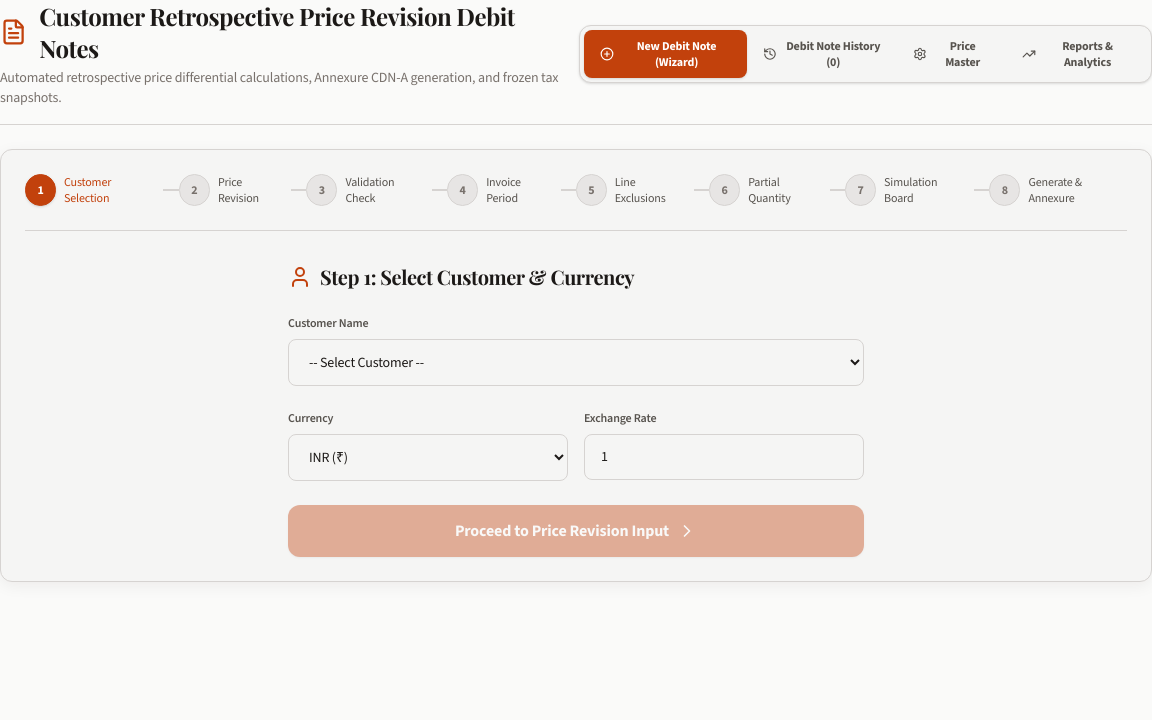
Scenario: CustomerDebitNotesTab - History Edit Integration › 2. Clicking Edit loads persisted Debit Note details and opens EditDebitNoteModal
Click the button "Debit Note History (0)".
click(822, 54)  # box [747,30,897,78]
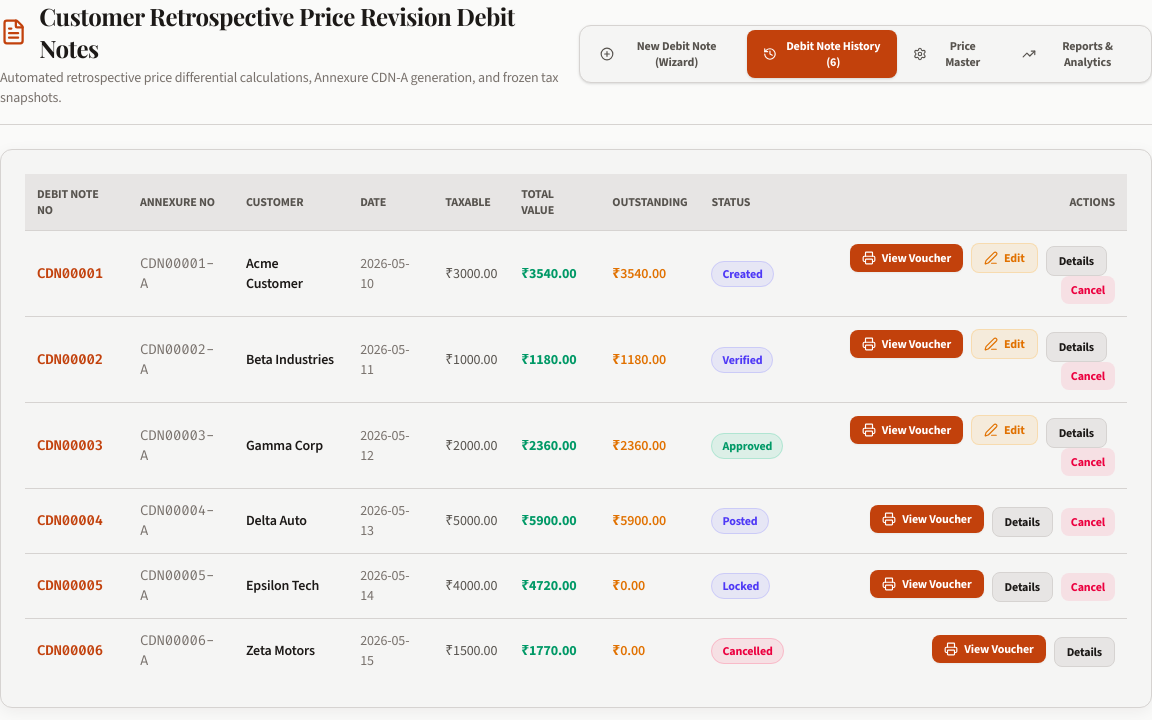
expect the text "CDN00001" is shown: met, box [25,230,128,316]
expect the text "CDN00004" is shown: met, box [25,488,128,554]
Click the button titled "Edit Debit Note lines" in the row of "CDN00001-A".
click(1004, 258)  # box [971,243,1038,273]
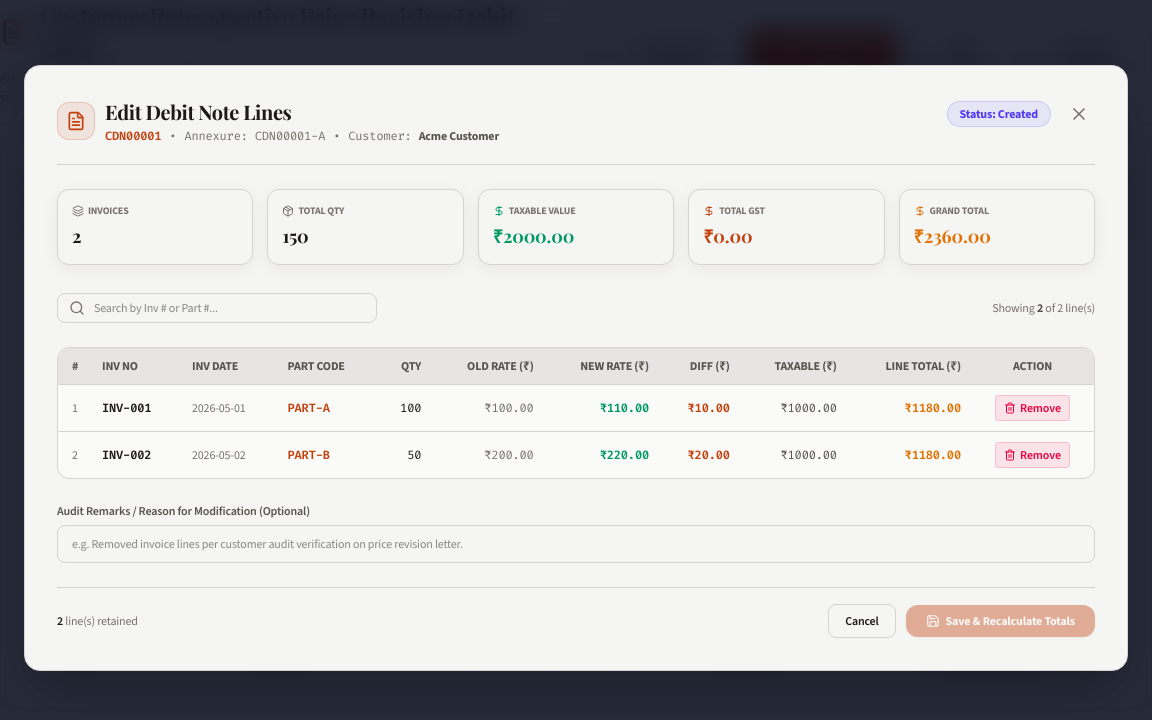
expect the heading "Edit Debit Note Lines" is shown: met, box [105,98,291,125]
expect the text "INV-001" is shown: met, box [102,400,151,416]
expect the text "INV-002" is shown: met, box [102,447,151,463]
